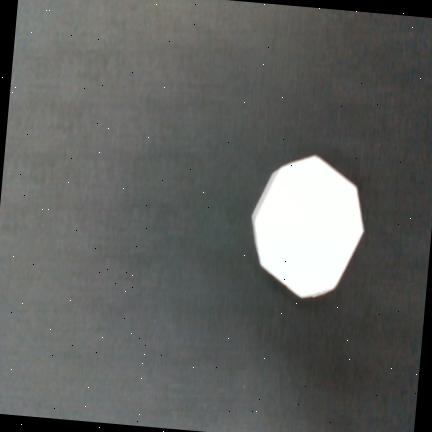Prisma_hexagonal: (250, 154, 364, 299)
